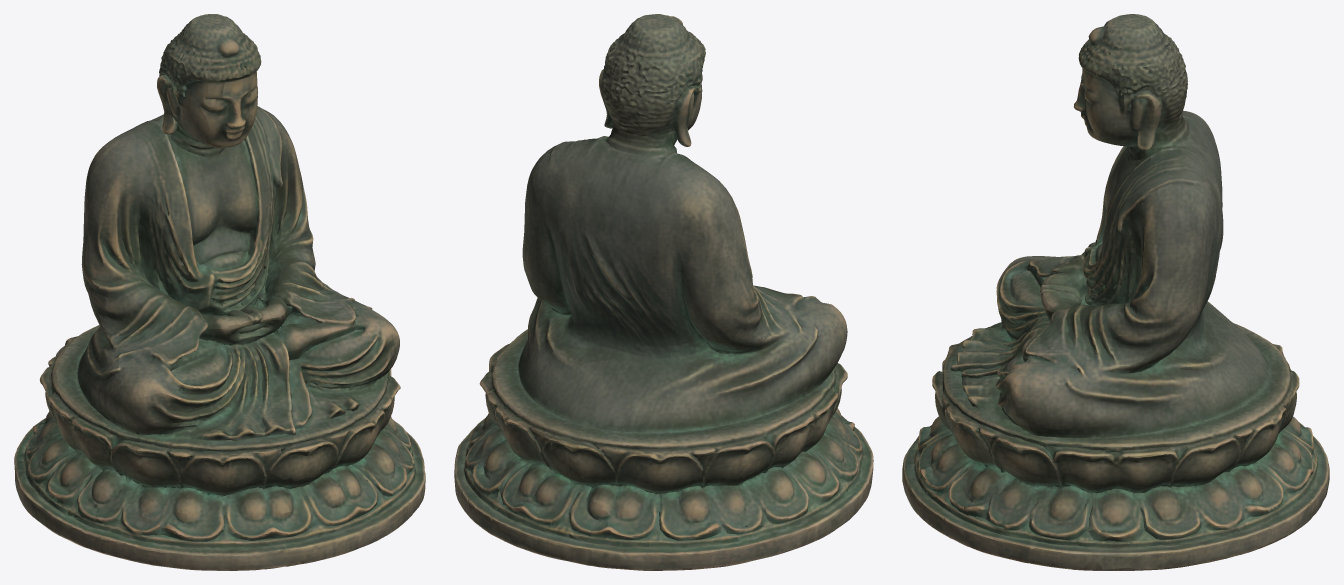
The model's file is PROP-011.glb.
3 views of the same model, side by side, from view 1: azimuth 30°, elevation 25°; view 2: azimuth 150°, elevation 25°; view 3: azimuth 270°, elevation 25° (orthographic). The views are drawn at different scales.
Visible parts, largest first — view 1: world; view 2: world; view 3: world.
Boxes of the visible parts, box(x1,y1,x2,y2) form: world: box(14, 14, 425, 570); world: box(454, 14, 873, 570); world: box(902, 14, 1329, 570).
Size of the model in its own units: 0.3403 by 0.42 by 0.3514.
Materials: 1 (1 with a texture image).
